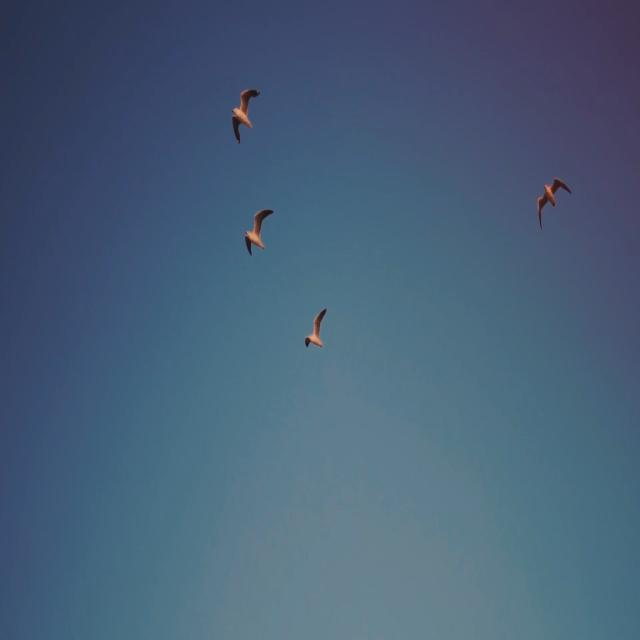bird: (534, 175, 574, 235), (230, 83, 261, 149), (243, 205, 274, 258), (302, 302, 329, 353)
